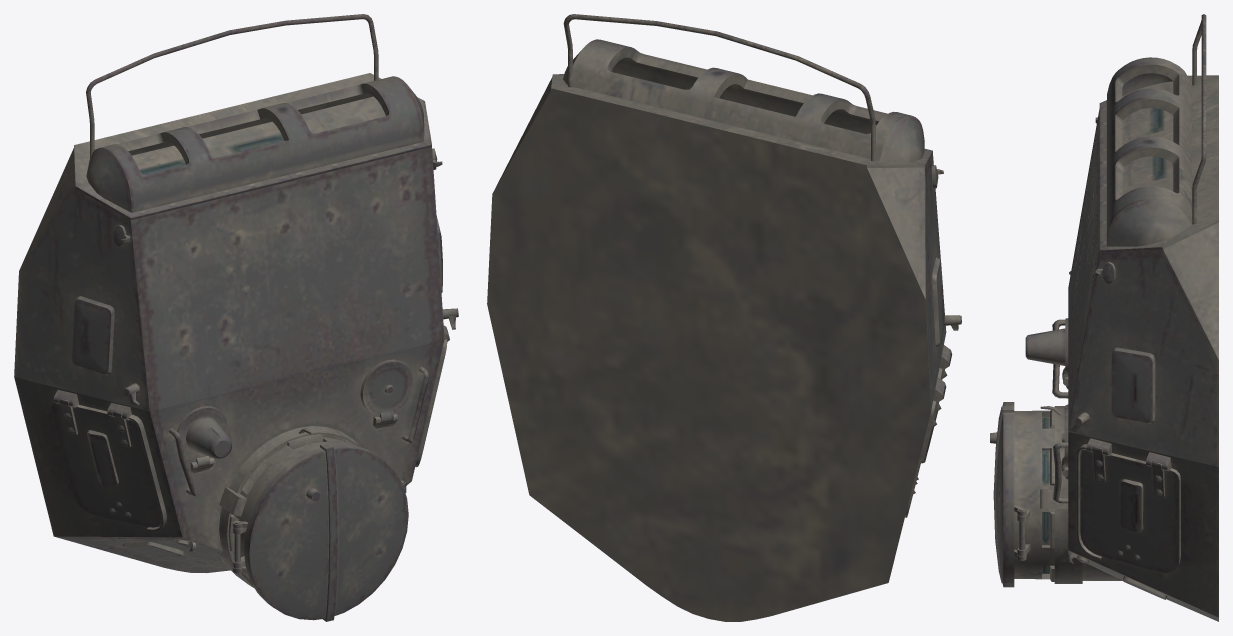
File: Turret_01.glb
The picture shows the model from 3 angles, left to right: view 1: azimuth 30°, elevation 25°; view 2: azimuth 150°, elevation 25°; view 3: azimuth 270°, elevation 25°; orthographic projection. The views are drawn at different scales.
Parts seen in each view (by area): view 1: set_0_group_0; view 2: set_0_group_0; view 3: set_0_group_0.
Part boxes in pixels (x1,y1,x2,y2): set_0_group_0: [14, 14, 458, 621]; set_0_group_0: [487, 14, 961, 621]; set_0_group_0: [990, 14, 1218, 621].
Size of the model in its own units: 1.8 by 2.26 by 0.8552.
Materials: 1 (1 with a texture image).
